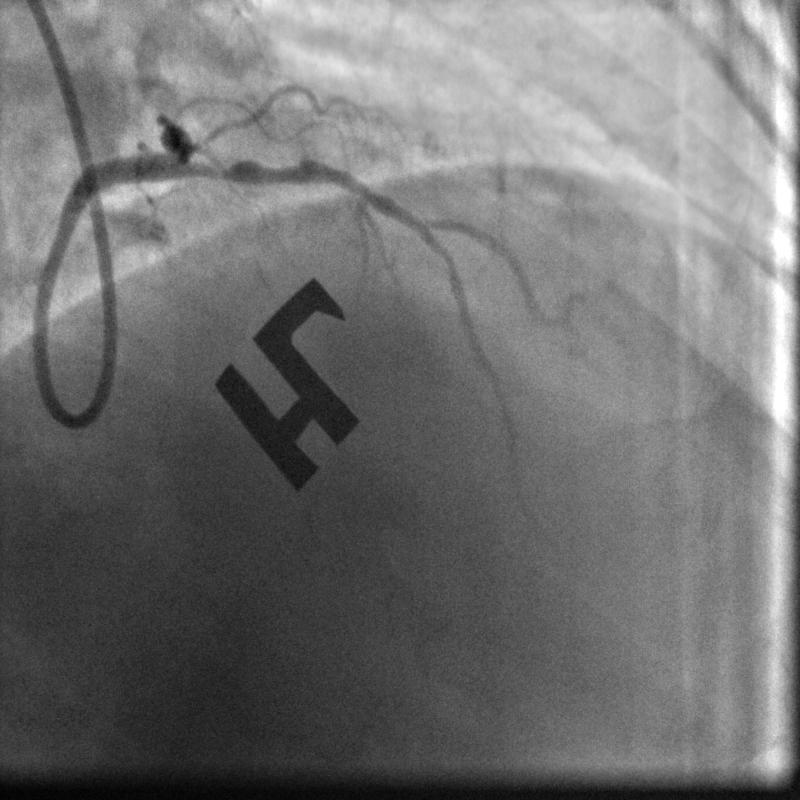Stenosis: (200, 146, 300, 178)
